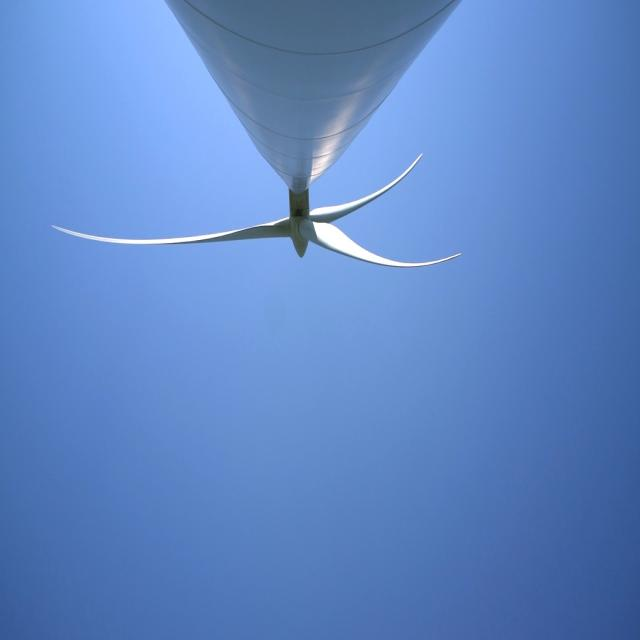blade 1: (344, 156, 414, 214)
blade 2: (38, 208, 284, 270)
blade 3: (310, 218, 561, 280)
